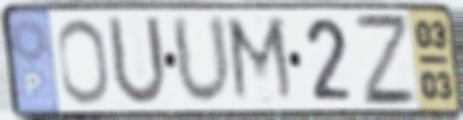2: (305, 14, 361, 105)
M: (223, 14, 299, 107)
O: (54, 16, 113, 107)
U: (167, 11, 236, 110), (104, 12, 171, 110)
Z: (351, 10, 421, 109)
